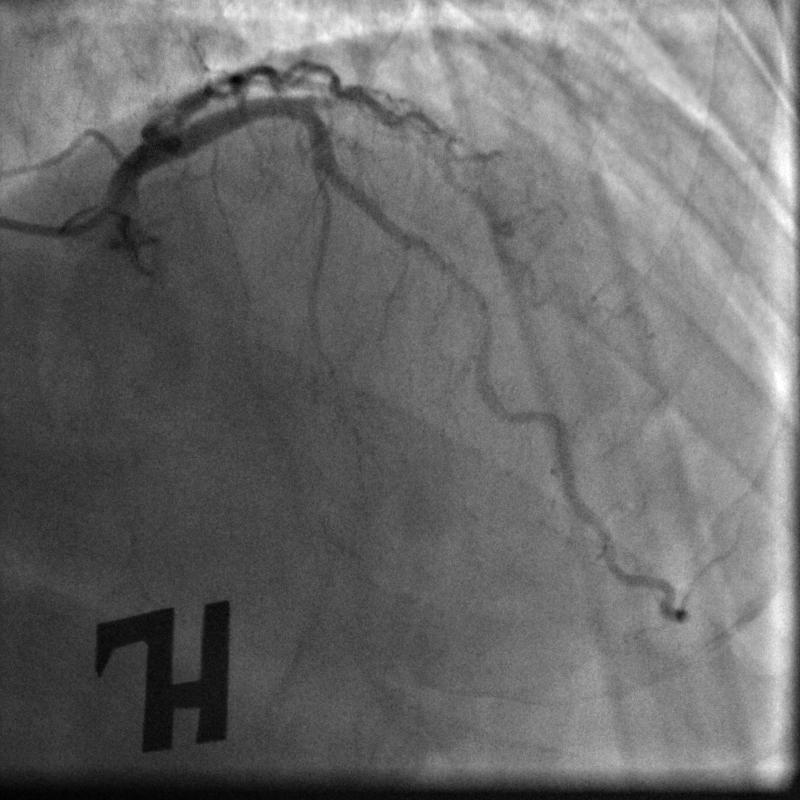Stenosis: (455, 269, 490, 353)
